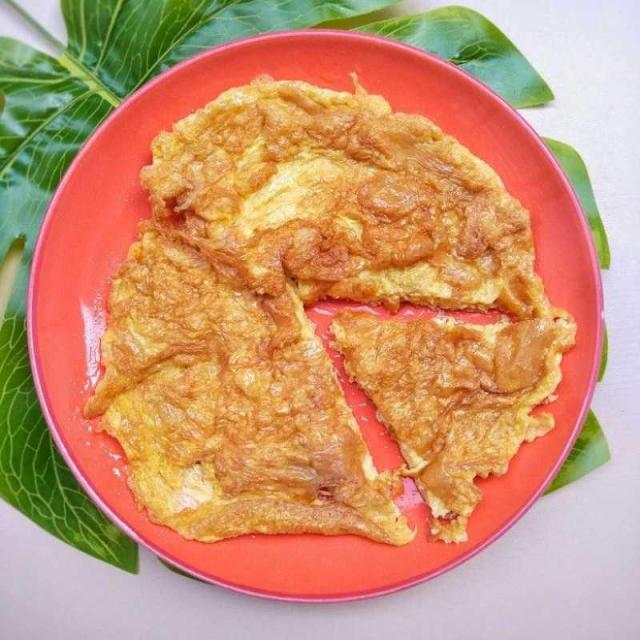omelette: (97, 82, 561, 574)
